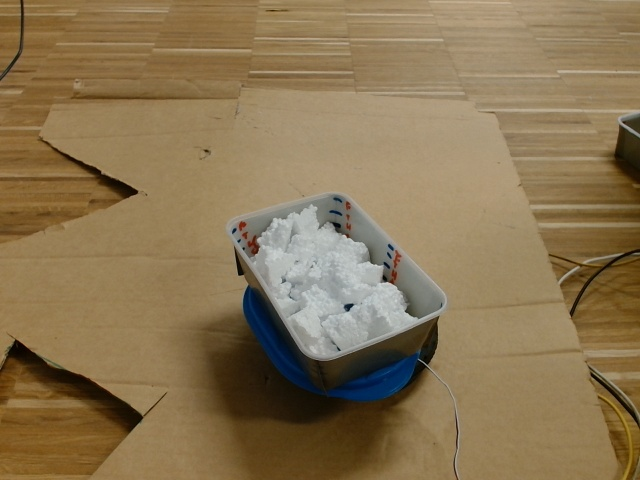Small_half: (224, 192, 451, 362)
